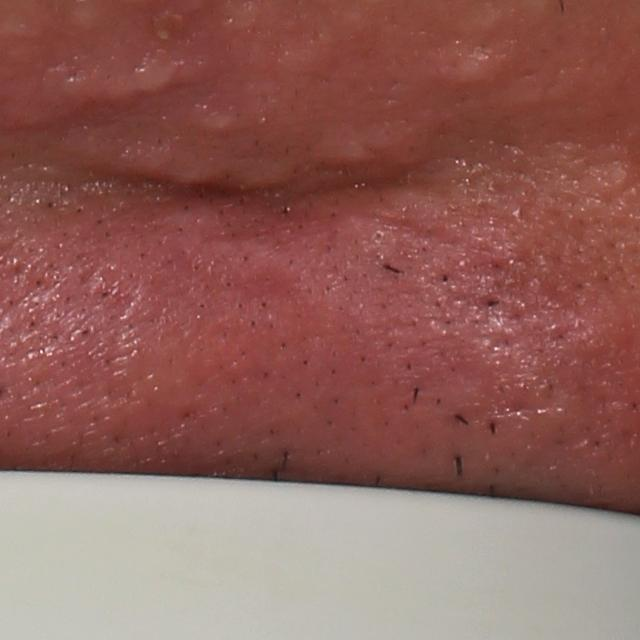hypertrophic_scar: (69, 136, 306, 198), (302, 104, 454, 189), (54, 52, 186, 112), (182, 74, 304, 134), (433, 35, 522, 89), (288, 30, 364, 74)
